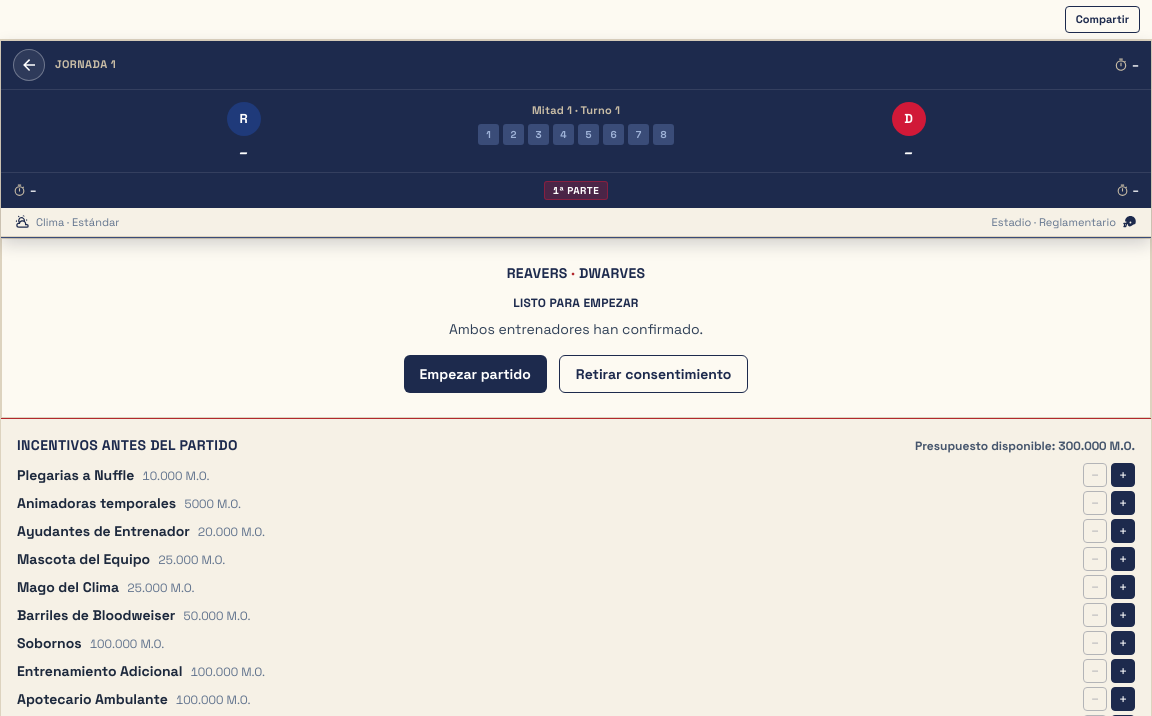
Test: MatchView — ready-phase inducement purchase step (IND-2/3, LM-30/S2) › adds/removes cart lines with maxPerMatch and blocks an over-budget confirm
This screenshot has width=1152, height=716.
Click the button named "Añadir Sobornos": (1123, 643) top-left (1111, 631), bottom-right (1135, 655)
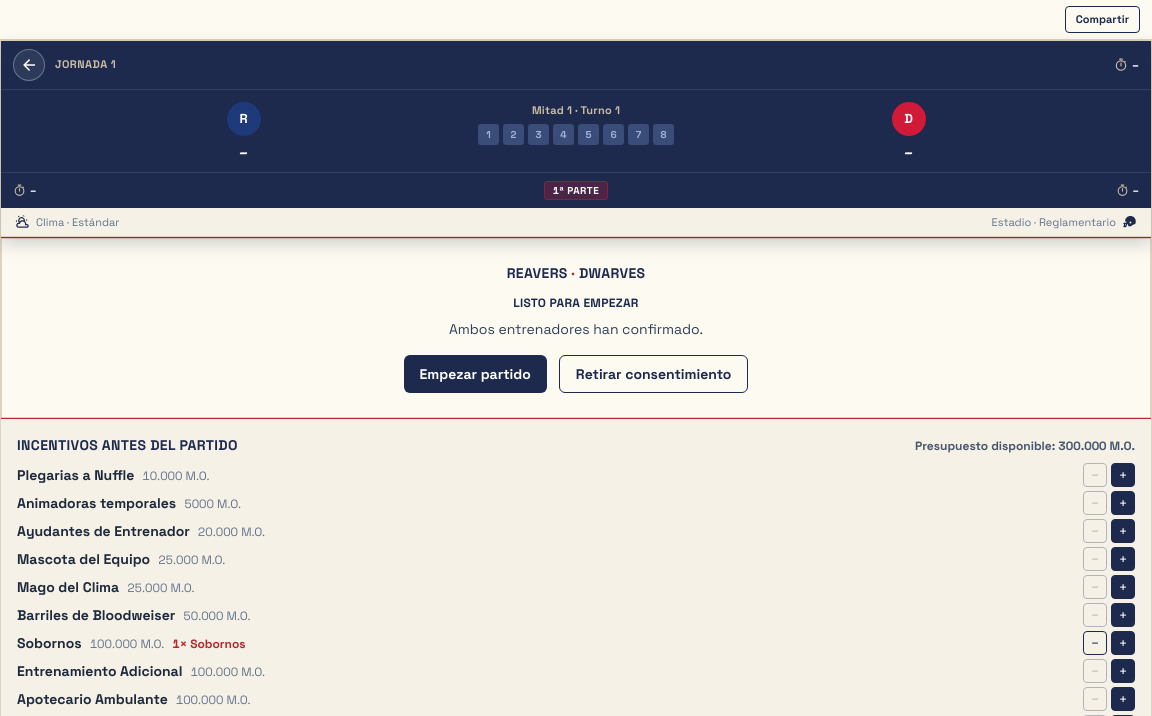
Click the button named "Añadir Sobornos": (1123, 643) top-left (1111, 631), bottom-right (1135, 655)
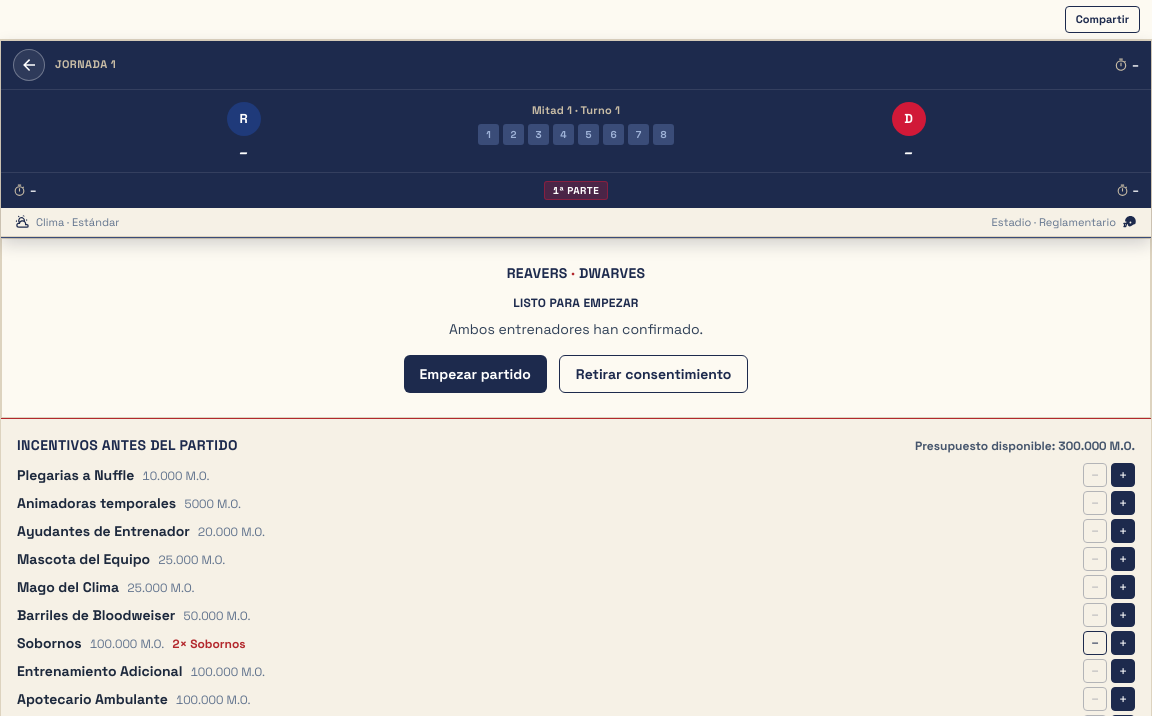
Click the button named "Añadir Sobornos": (1123, 643) top-left (1111, 631), bottom-right (1135, 655)
(page scrolled)
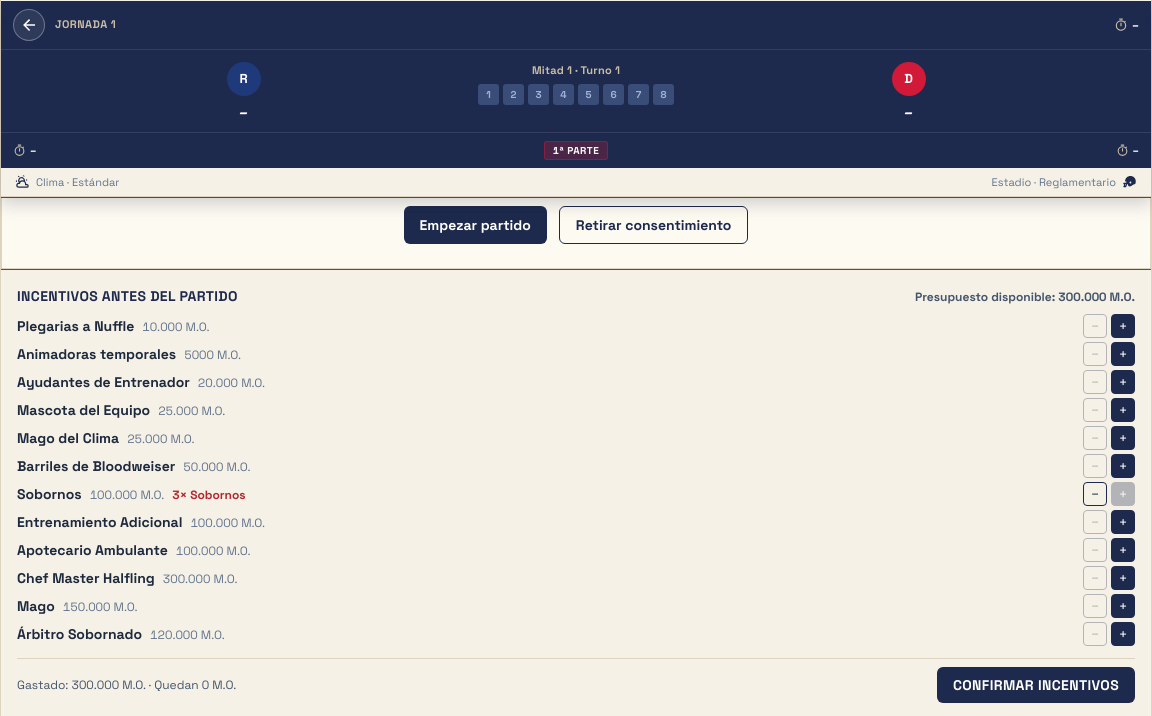
Expected: the button "Confirmar incentivos" is enabled, top-left (937, 667), bottom-right (1135, 703)
Expected: the text "3× Sobornos" is shown, top-left (172, 487), bottom-right (246, 503)
Expected: the button named "Añadir Sobornos" is disabled, top-left (1111, 482), bottom-right (1135, 506)
Click the button named "Añadir Mago": (1123, 606) top-left (1111, 594), bottom-right (1135, 618)
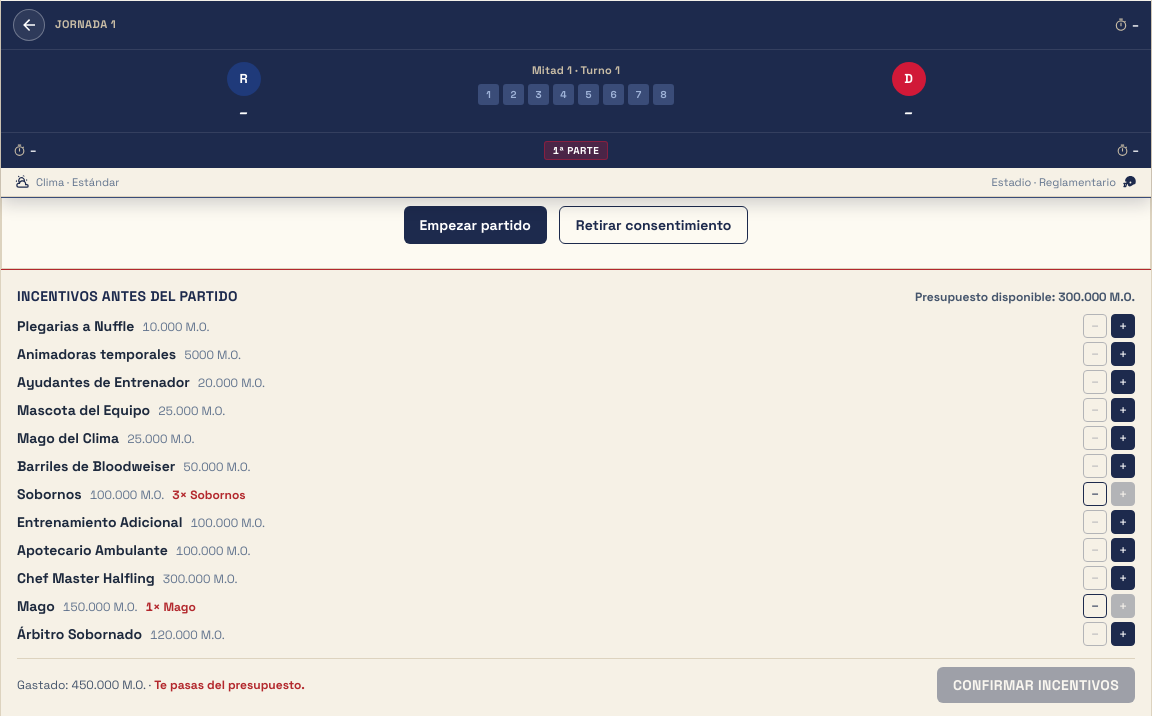
Expected: the message "Te pasas del presupuesto." is shown, top-left (154, 677), bottom-right (305, 693)
Expected: the button "Confirmar incentivos" is disabled, top-left (937, 667), bottom-right (1135, 703)
// Remove the Mago → back within budget and confirm re-enables.
Click the button named "Quitar Mago": (1095, 606) top-left (1083, 594), bottom-right (1107, 618)
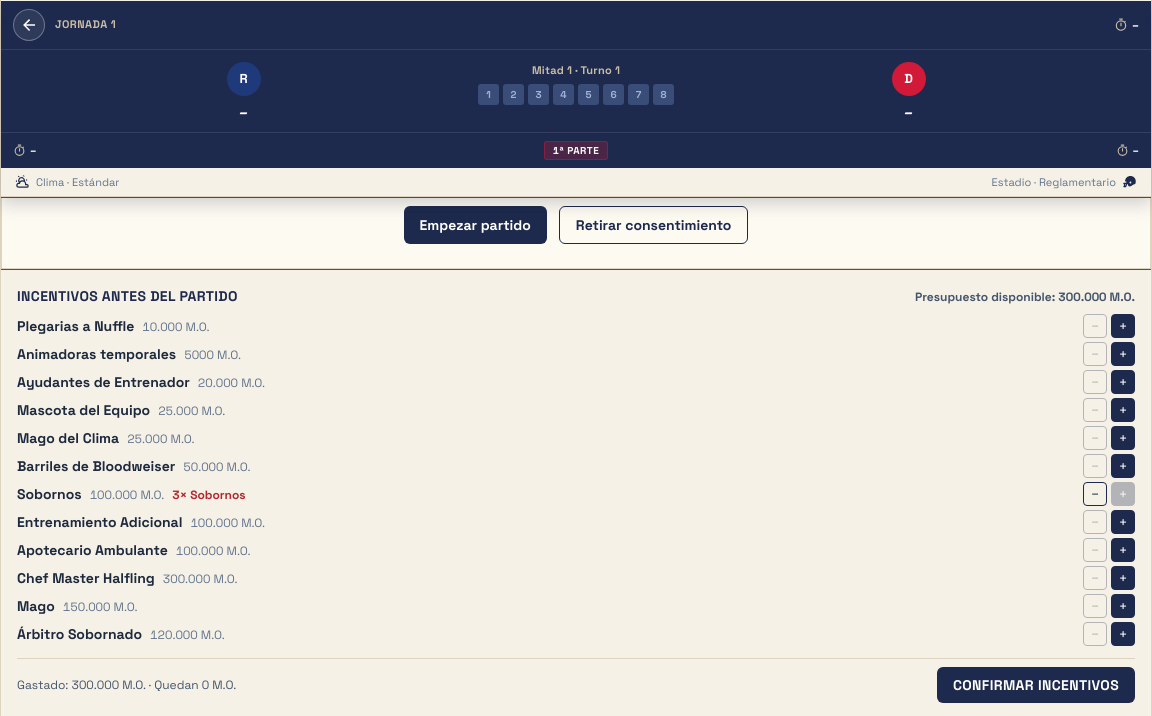
Expected: the message "Te pasas del presupuesto." is gone
Expected: the button "Confirmar incentivos" is enabled, top-left (937, 667), bottom-right (1135, 703)
